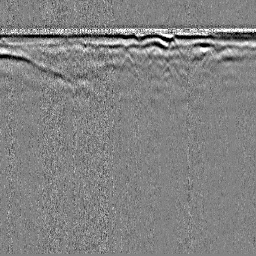cavity: (117, 52, 138, 74)
